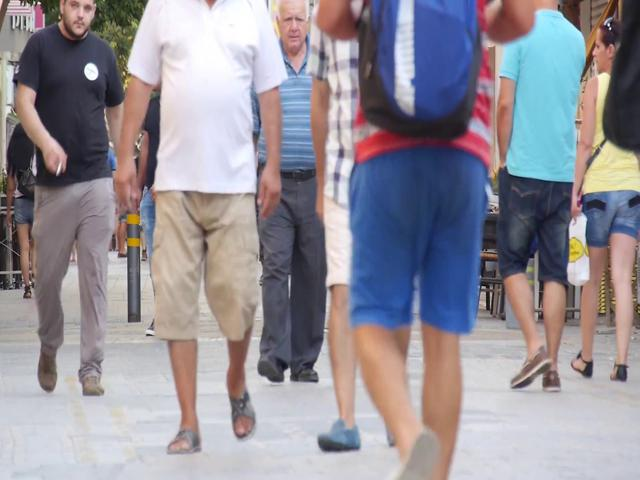shoe: (226, 373, 257, 440), (511, 348, 551, 388), (316, 421, 362, 451), (166, 429, 202, 455), (38, 349, 57, 393), (257, 355, 286, 383), (571, 353, 594, 378), (289, 366, 320, 383), (82, 376, 106, 395), (609, 364, 628, 381)
